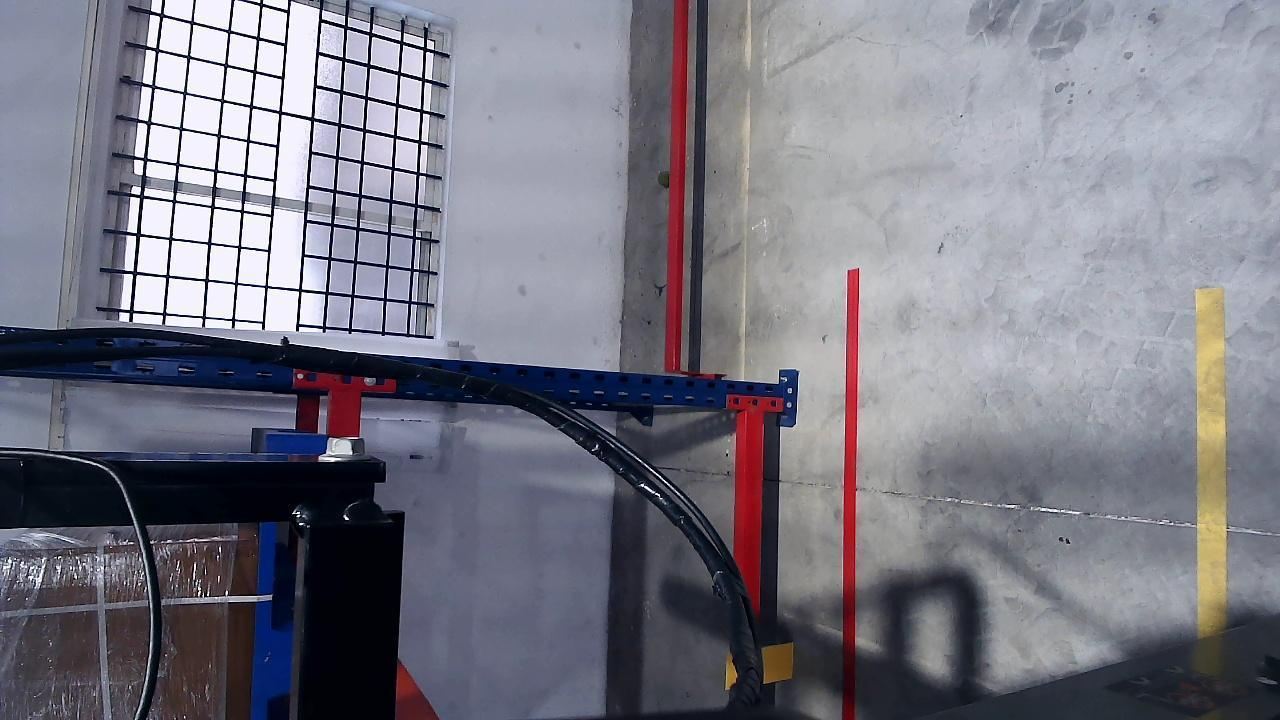red_line: (840, 263, 866, 719)
yellow_line: (1197, 288, 1228, 645)
